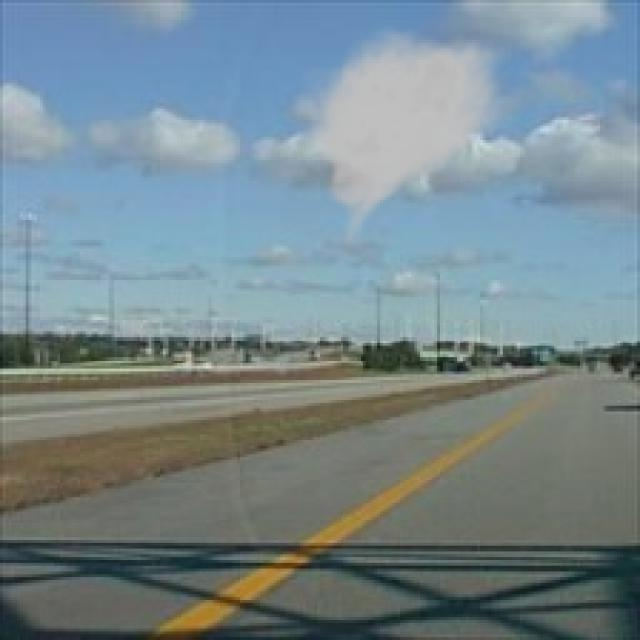smoke: (300, 26, 514, 251)
